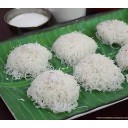idiyappam: (30, 71, 79, 114), (74, 56, 122, 93), (5, 40, 49, 74), (51, 31, 96, 58), (97, 19, 127, 44)
